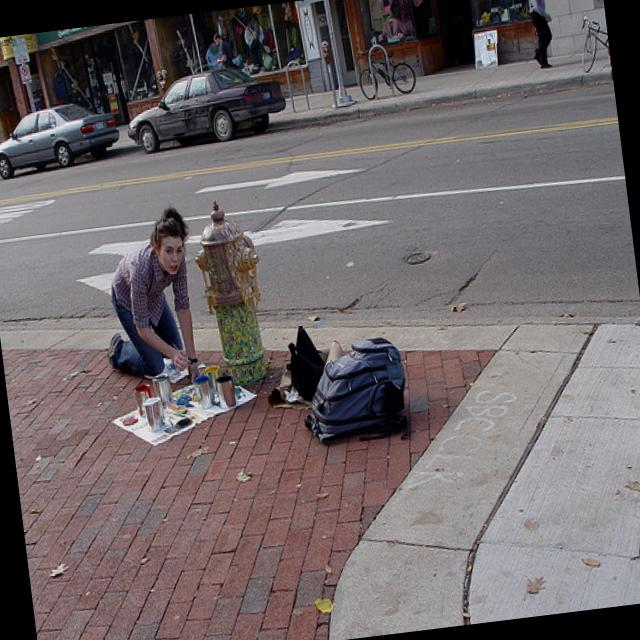Vehicle: (121, 61, 289, 154), (0, 98, 124, 180)
